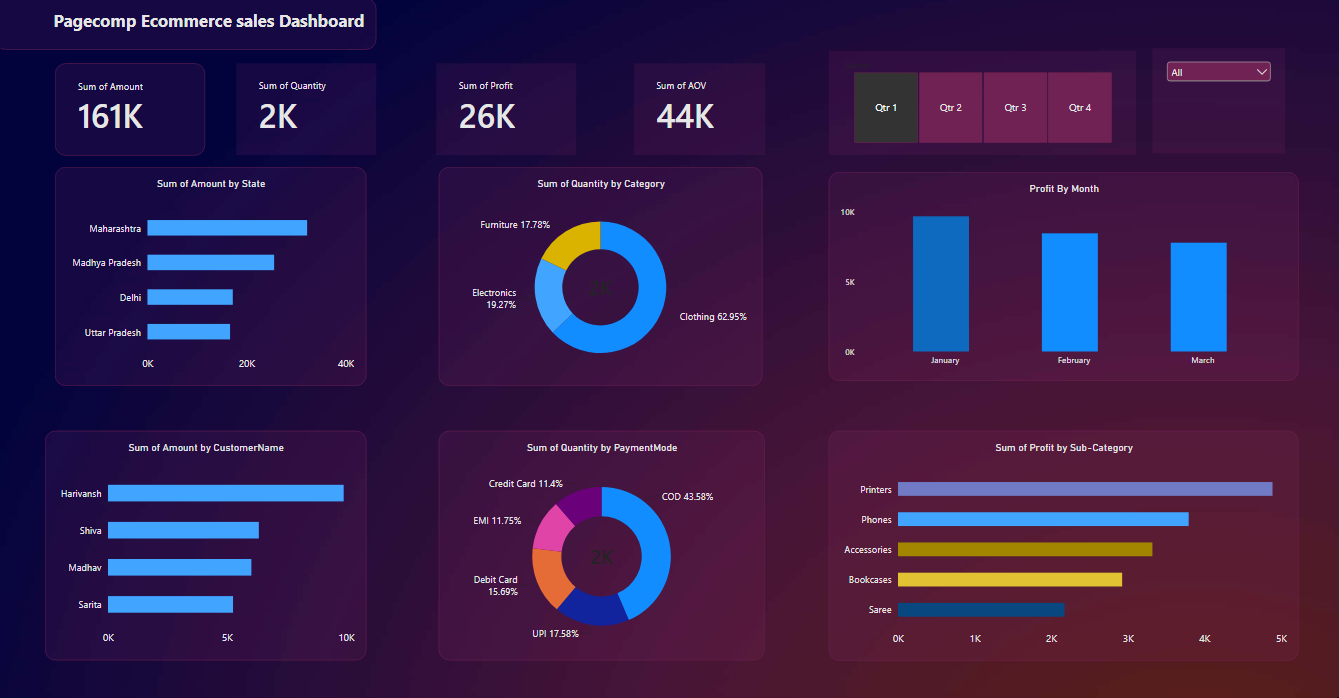

Layout of this report page (visuals, bound fields, positions):
{"tool":"powerbi","page":{"name":"Page 1","canvas":[1920,1080],"ordinal":0},"visuals":[{"type":"textbox","box":[0,37.5,544.6,73.2],"z":0},{"type":"columnChart","title":"Profit By Month","fields":{"Category":["Orders.Order Date.Variation.Date Hierarchy.Month"],"Y":["Sum(Details.Profit)"]},"box":[1191.2,285.9,671.4,298.2],"z":1},{"type":"barChart","fields":{"Category":["Details.Sub-Category"],"Y":["Sum(Details.Profit)"]},"box":[1191.1,655.4,671.4,328.6],"z":2},{"type":"donutChart","fields":{"Category":["Details.Category"],"Y":["Sum(Details.Quantity)"]},"box":[633.9,278.6,462.5,312.5],"z":3},{"type":"donutChart","fields":{"Category":["Details.PaymentMode"],"Y":["Sum(Details.Quantity)"]},"box":[634.6,655.4,465.5,327.7],"z":4},{"type":"cardVisual","fields":{"Data":["Sum(Details.Amount)"]},"box":[85.7,130.4,214.3,132.1],"z":5},{"type":"cardVisual","fields":{"Data":["Sum(Details.Quantity)"]},"box":[344.6,130.4,200.4,131.5],"z":6},{"type":"cardVisual","fields":{"Data":["Sum(Details.Profit)"]},"box":[630.4,130.4,200.4,131.5],"z":7},{"type":"cardVisual","fields":{"Data":["Sum(Details.AOV)"]},"box":[912.5,130.4,187.9,131.5],"z":8},{"type":"barChart","fields":{"Category":["Orders.State"],"Y":["Sum(Details.Amount)"]},"box":[85.7,278.6,444.6,312.5],"z":9},{"type":"barChart","fields":{"Category":["Orders.CustomerName"],"Y":["Sum(Details.Amount)"]},"box":[71,655.4,459.2,327.7],"z":10},{"type":"slicer","fields":{"Values":["Orders.Order Date.Variation.Date Hierarchy.Quarter"]},"box":[1191.2,111.9,439.2,149.2],"z":11},{"type":"slicer","fields":{"Values":["Orders.State"]},"box":[1654,109.4,190,150.7],"z":12}]}

Visuals, with their boxes on the page's 1920x1080 design canvas (x1, y1, x2, y2). These are canvas units, not pixel positions in the 1340x698 screenshot, which may show the page scaled, cropped or inside an application window:
textbox: 0,38,545,111
"Profit By Month" columnChart: 1191,286,1863,584
barChart - Details.Sub-Category x Sum(Details.Profit): 1191,655,1862,984
donutChart - Details.Category x Sum(Details.Quantity): 634,279,1096,591
donutChart - Details.PaymentMode x Sum(Details.Quantity): 635,655,1100,983
cardVisual - Sum(Details.Amount): 86,130,300,262
cardVisual - Sum(Details.Quantity): 345,130,545,262
cardVisual - Sum(Details.Profit): 630,130,831,262
cardVisual - Sum(Details.AOV): 912,130,1100,262
barChart - Orders.State x Sum(Details.Amount): 86,279,530,591
barChart - Orders.CustomerName x Sum(Details.Amount): 71,655,530,983
slicer - Orders.Order Date.Variation.Date Hierarchy.Quarter: 1191,112,1630,261
slicer - Orders.State: 1654,109,1844,260
